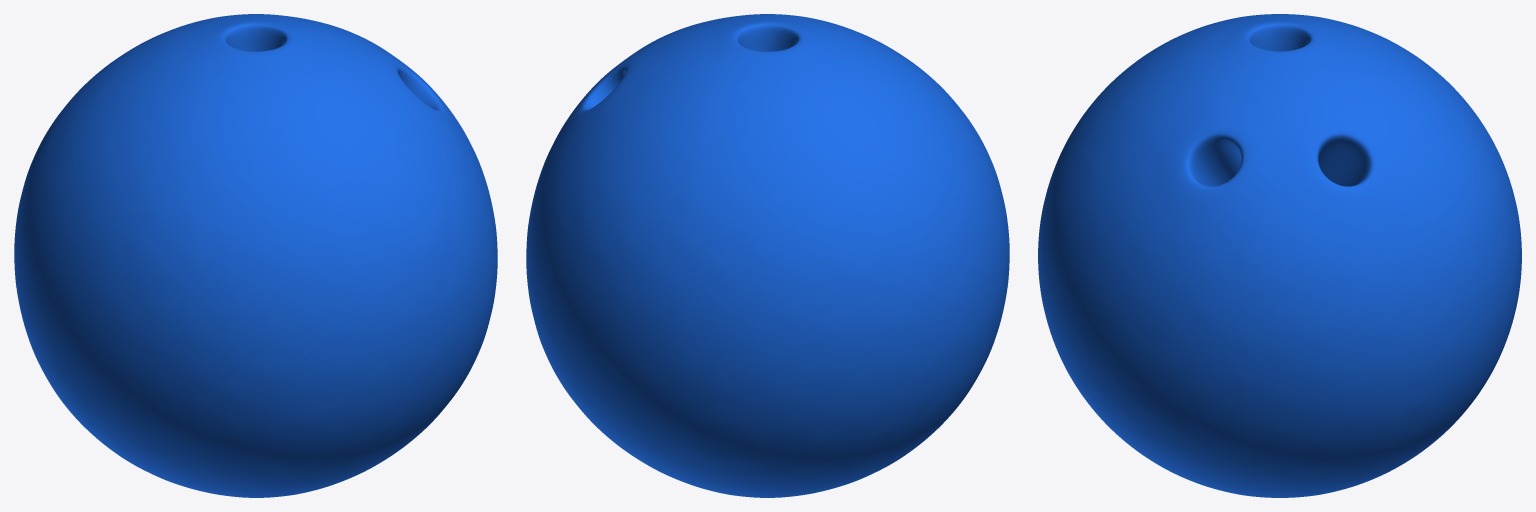
Rendered from bowlingBall.fbx.
3 views of the same model, side by side, from view 1: azimuth 30°, elevation 25°; view 2: azimuth 150°, elevation 25°; view 3: azimuth 270°, elevation 25° (orthographic).
Visible parts, largest first — view 1: Icosphere; view 2: Icosphere; view 3: Icosphere.
Part boxes in pixels (x1,y1,x2,y2): Icosphere: (14,14,497,497); Icosphere: (526,14,1009,497); Icosphere: (1038,14,1521,497).
Size of the model in its own units: 196 by 196 by 196.
